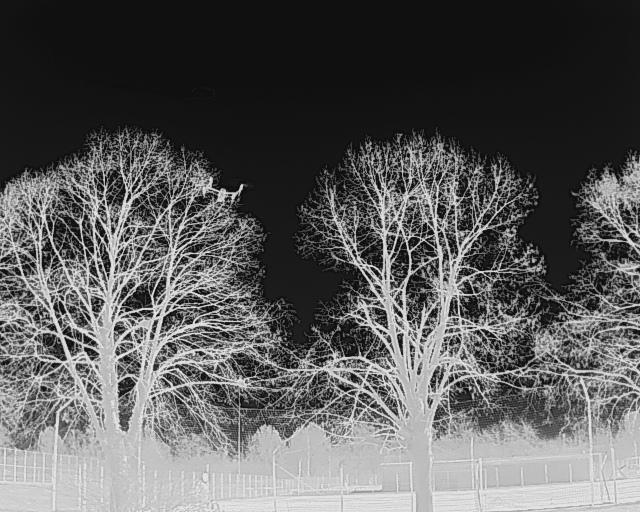drone: (192, 171, 255, 215)
